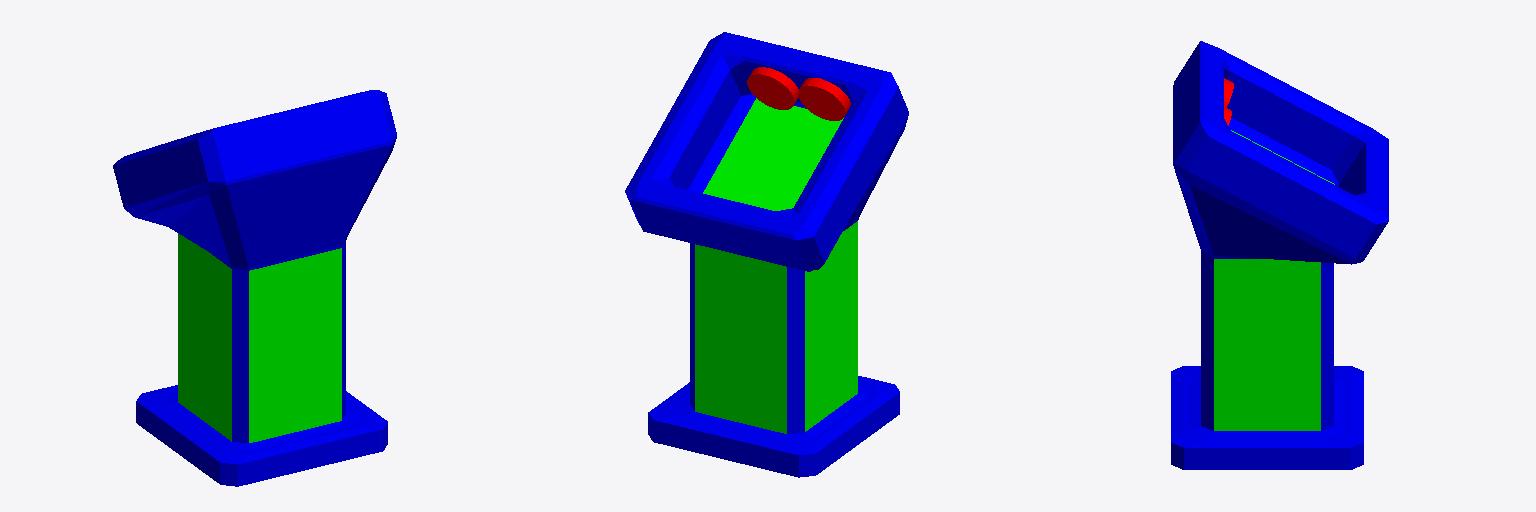
The model's file is Charger.obj.
The picture shows the model from 3 angles: view 1: azimuth 30°, elevation 25°; view 2: azimuth 150°, elevation 25°; view 3: azimuth 270°, elevation 25°; orthographic projection.
Parts seen in each view (by area): view 1: Cube.001; view 2: Cube.001; view 3: Cube.001.
Boxes of the visible parts, x1=… form: Cube.001: x1=113, y1=90, x2=396, y2=486; Cube.001: x1=625, y1=32, x2=908, y2=477; Cube.001: x1=1171, y1=41, x2=1388, y2=469.
Bounding box in the file's own units: 2.25 × 3.98 × 2.26.